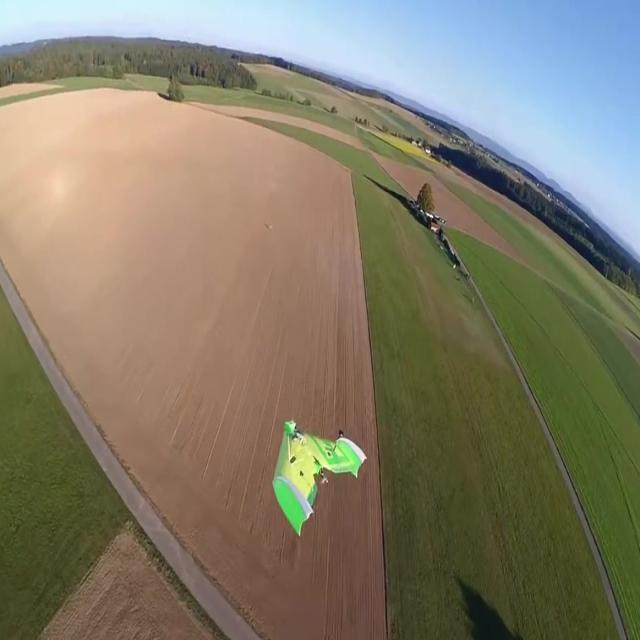iha: (304, 451, 332, 504)
